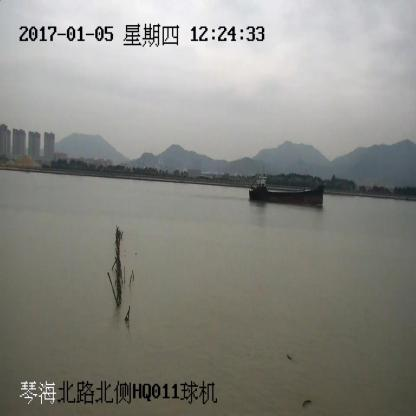Bulk Carrier: (248, 174, 325, 206)
